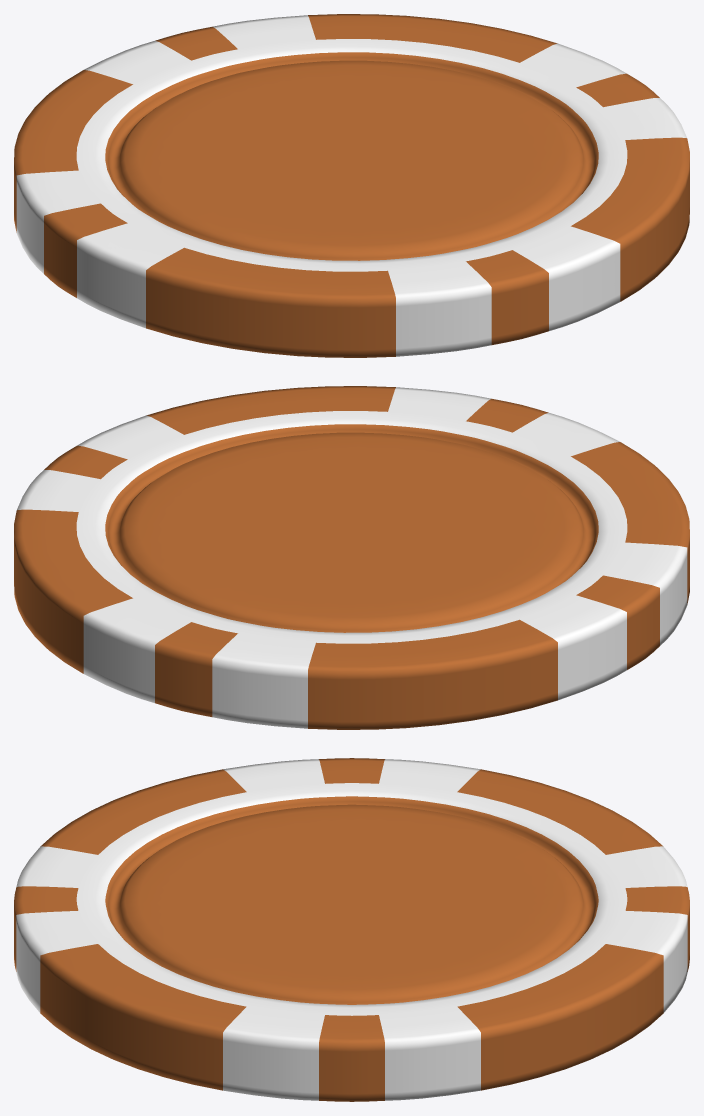
Rendered from chip-transformed.glb.
The picture shows the model from 3 angles, top to bottom: view 1: azimuth 30°, elevation 25°; view 2: azimuth 150°, elevation 25°; view 3: azimuth 270°, elevation 25°; orthographic projection.
Parts seen in each view (by area): view 1: chip; view 2: chip; view 3: chip.
Boxes of the visible parts, x1,y1,x2,y2 form: chip: (14,14,689,357); chip: (14,386,689,729); chip: (14,758,689,1101).
Size of the model in its own units: 2 by 0.1988 by 2.
